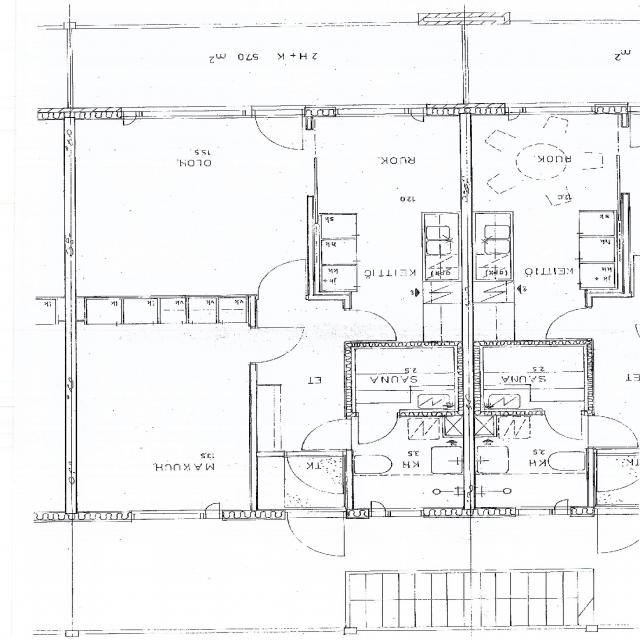door: (288, 514, 342, 560), (290, 452, 342, 493), (256, 108, 303, 152), (251, 328, 307, 362), (259, 262, 305, 300), (345, 308, 398, 340), (301, 418, 352, 449), (358, 412, 400, 447)
